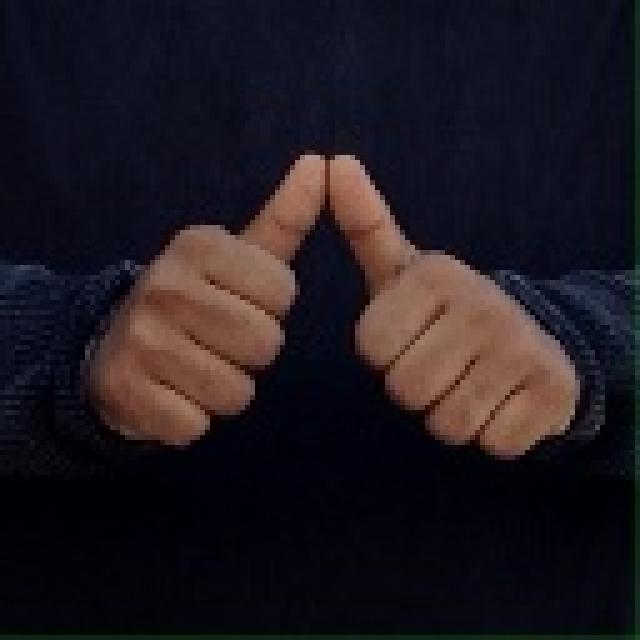Alphabet-A: (70, 144, 588, 459)
